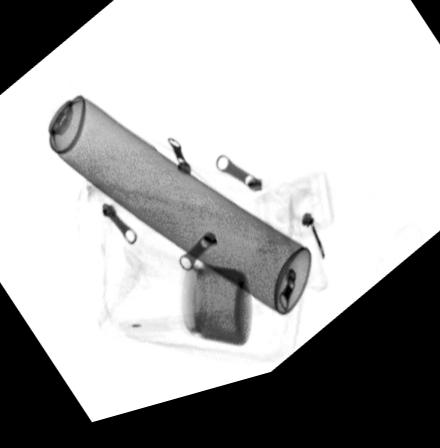Sprayer: (16, 65, 314, 333)
